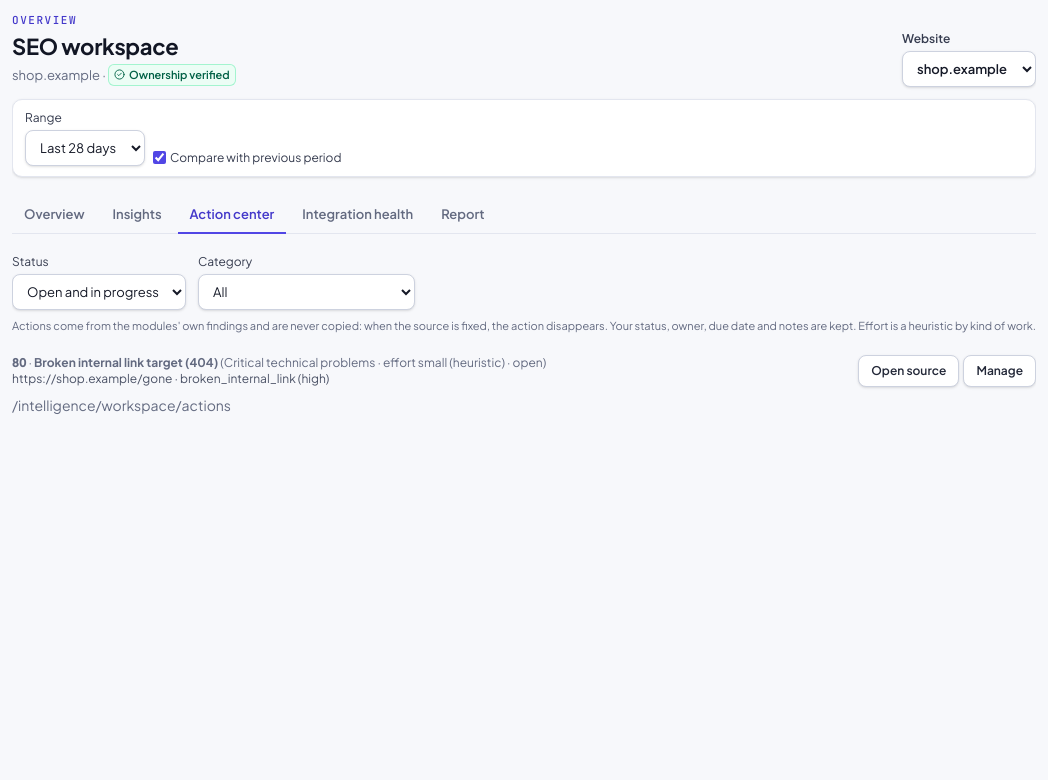
Test: Action center › lists actions with source links and saves status, due date and note
The width and height of the screenshot is (1048, 780).
Expected: the text "Broken internal link target (404)" is shown, left=34, top=355, right=218, bottom=370
Expected: the text "effort small (heuristic)" is shown, left=220, top=355, right=546, bottom=370
Click the button "Manage" at (1000, 371), box left=963, top=355, right=1036, bottom=387
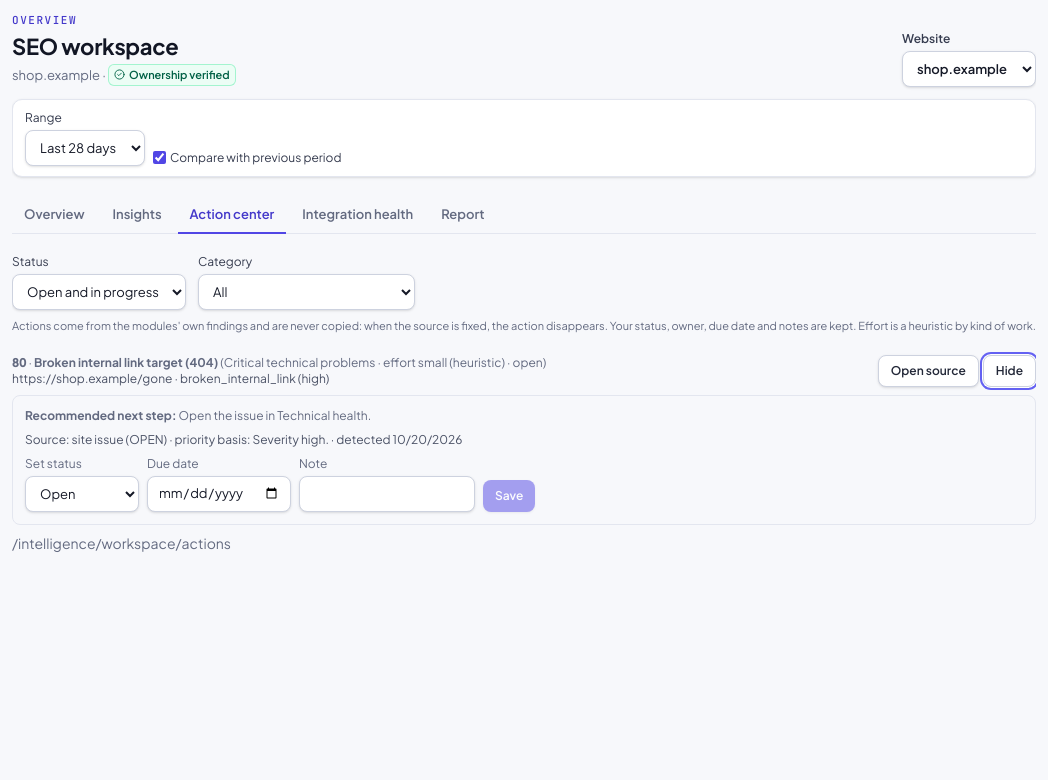
Now the button "Save" is disabled, box left=483, top=480, right=535, bottom=512
Select "In progress" in the dropdown labelled "Set status" at (82, 494), box left=25, top=476, right=139, bottom=512
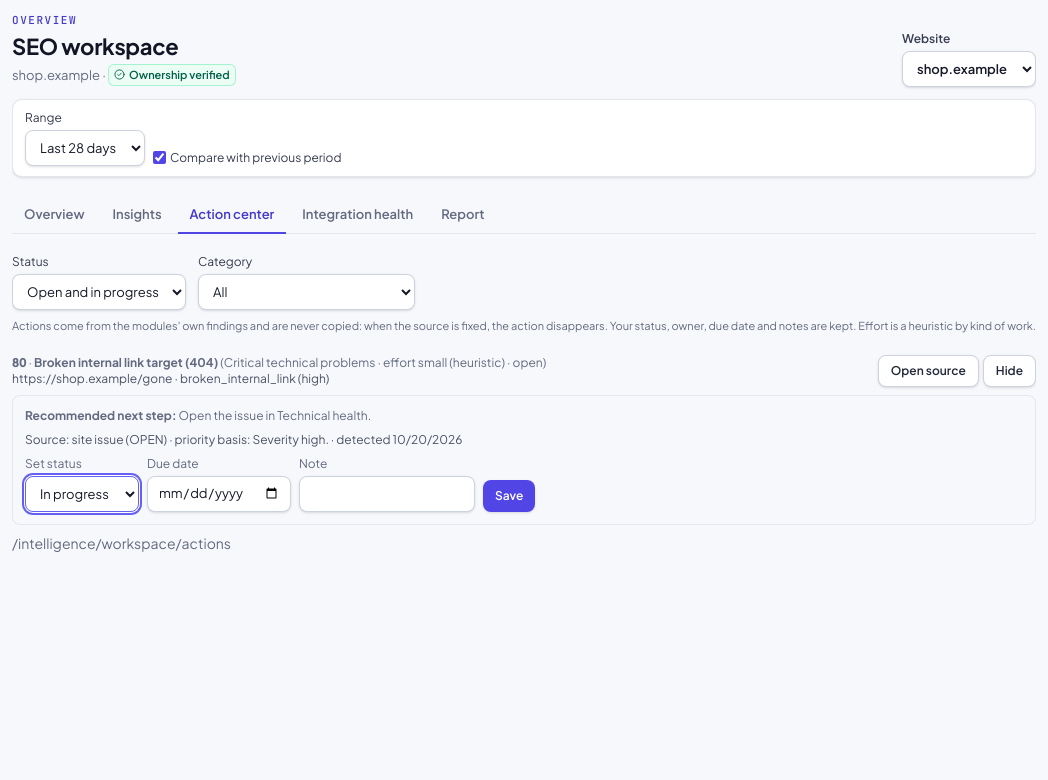
Type "2026-12-01" into the date field labelled "Due date" at (219, 494), box left=147, top=476, right=291, bottom=512
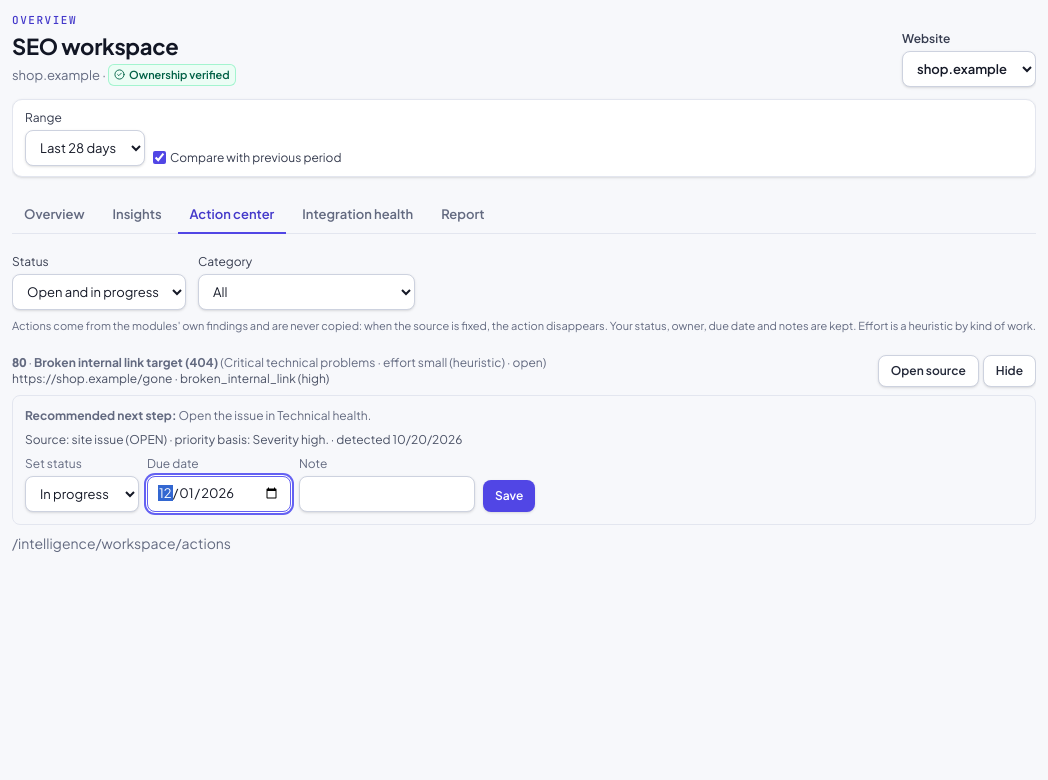
Type "Fixing" into the field labelled "Note" at (387, 494), box left=299, top=476, right=475, bottom=512
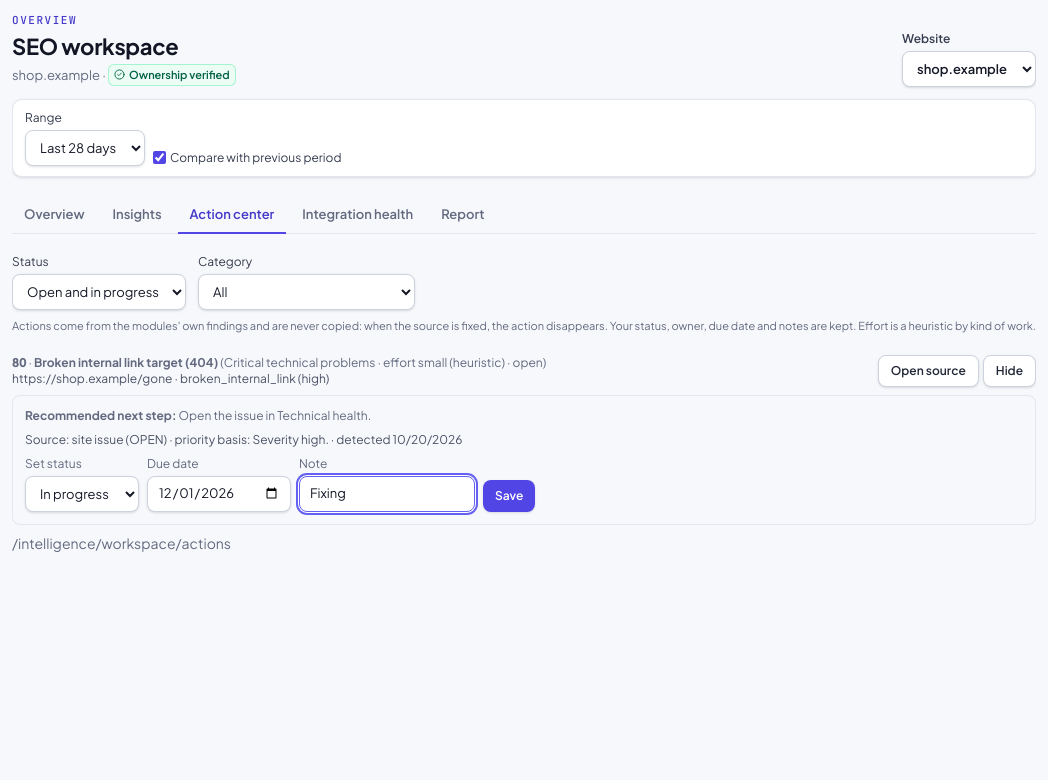
Click the button "Save" at (509, 496), box left=483, top=480, right=535, bottom=512
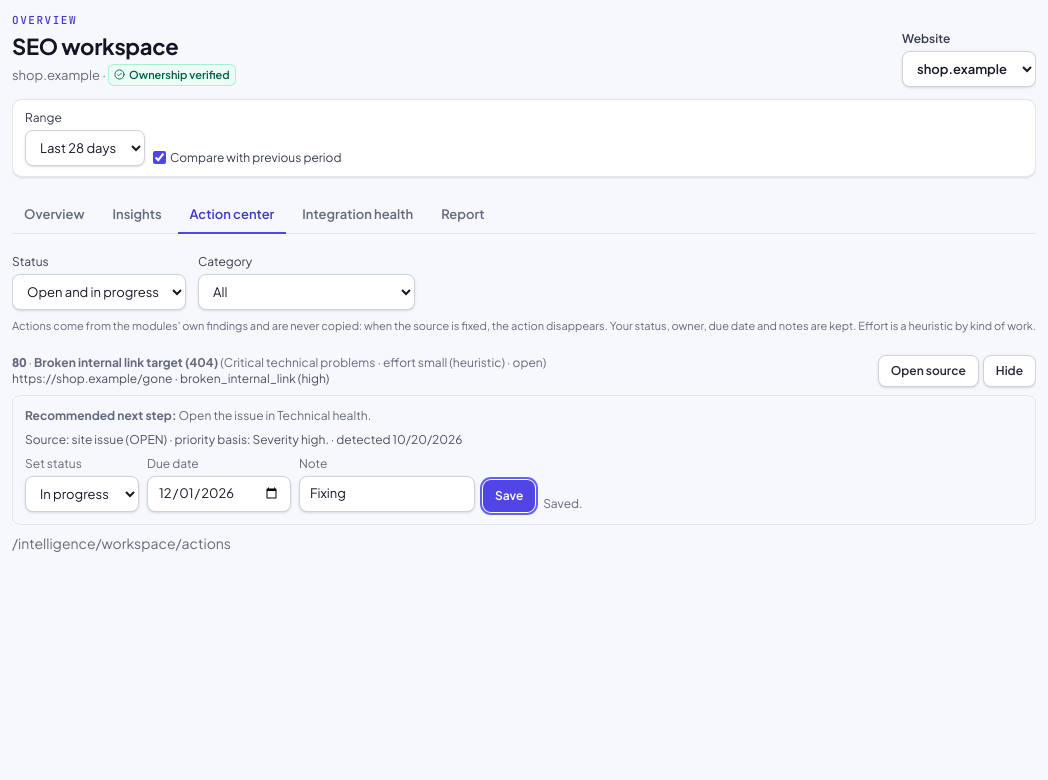
Now the text "Saved." is shown, box left=543, top=496, right=582, bottom=512
Type " again" into the field labelled "Note" at (387, 494), box left=299, top=476, right=475, bottom=512
Click the button "Save" at (509, 496), box left=483, top=480, right=535, bottom=512
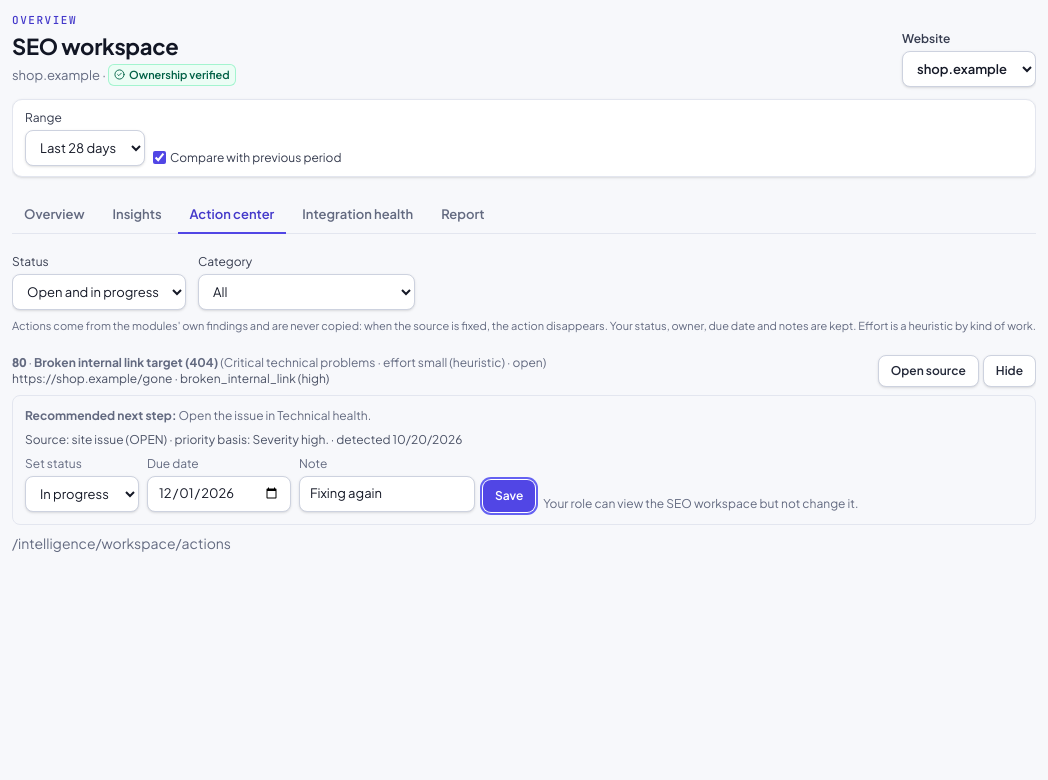
Now the text "Your role can view the SEO workspace but not change it." is shown, box left=543, top=496, right=858, bottom=512
